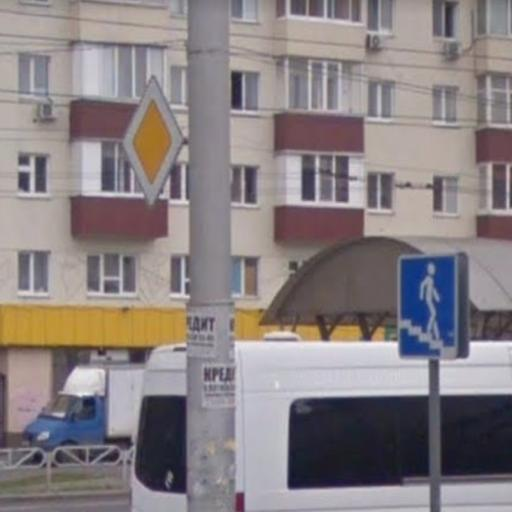traffic_sign: (123, 74, 185, 211)
